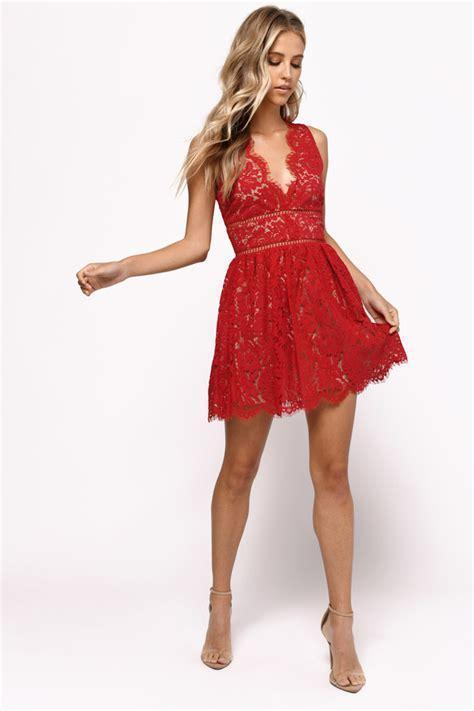dress: (206, 122, 409, 425)
